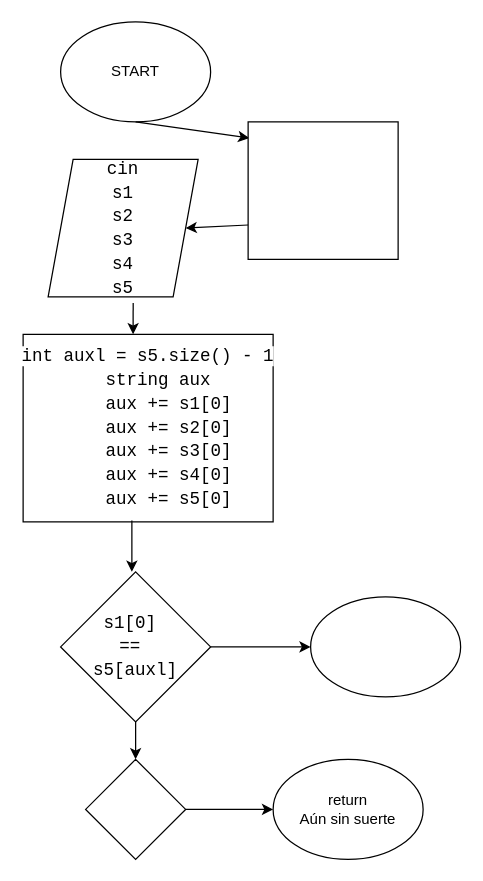
This 483x881 diagram has some shape labels left out. The centre of each missing label's shape, as x and y in pixels:
Else: point 135,808
return "Hemos encontrado algo": point 385,646
string s1 string s2 string s3 string s4 string s5: point 322,190
